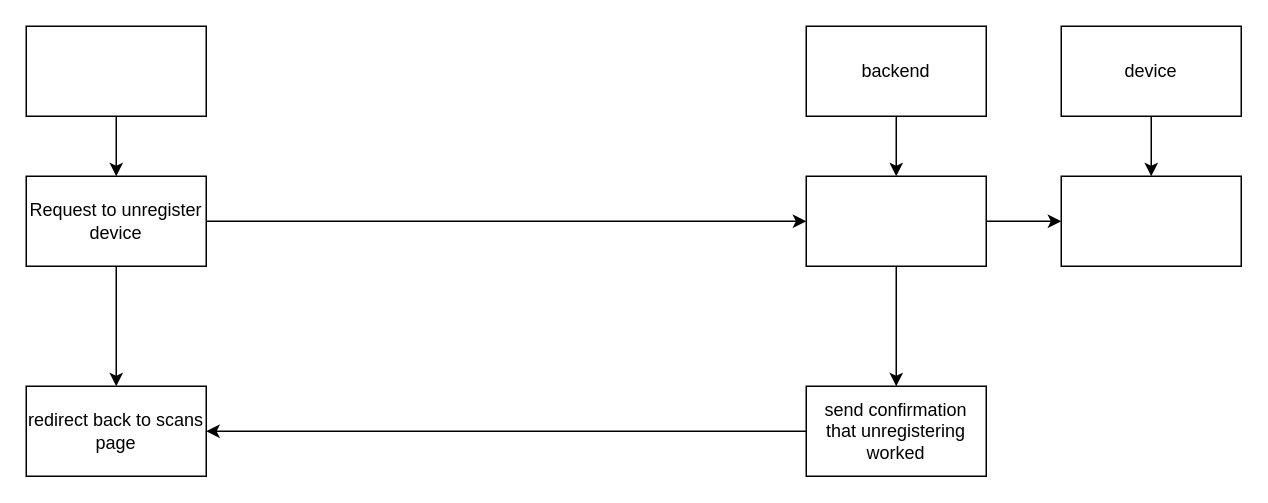
Image size: 1268x503. Some labels were removed from this diagram. The centre of each missing label's shape, as x and y in pixels:
"frontend" goes at point 115,70.
"go into sleep mode" goes at point 1150,220.
"receive json" goes at point 895,220.
